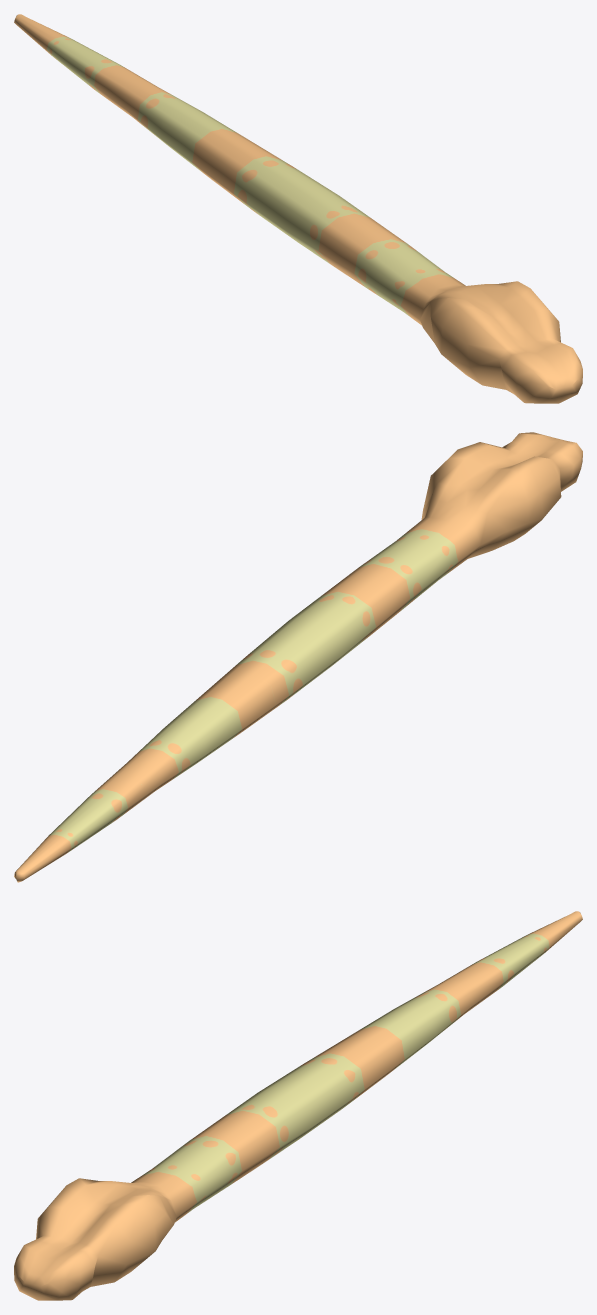
The model's file is Snake Model.fbx.
The picture shows the model from 3 angles, top to bottom: view 1: azimuth 30°, elevation 25°; view 2: azimuth 150°, elevation 25°; view 3: azimuth 330°, elevation 25°; orthographic projection.
Parts seen in each view (by area): view 1: pasted__Snake_5; view 2: pasted__Snake_5; view 3: pasted__Snake_5.
Boxes of the visible parts, left/top/right/bottom form: pasted__Snake_5: left=14, top=14, right=582, bottom=403; pasted__Snake_5: left=14, top=432, right=582, bottom=882; pasted__Snake_5: left=14, top=911, right=582, bottom=1300.
Bounding box in the file's own units: 8.3 × 5.99 × 76.88.
